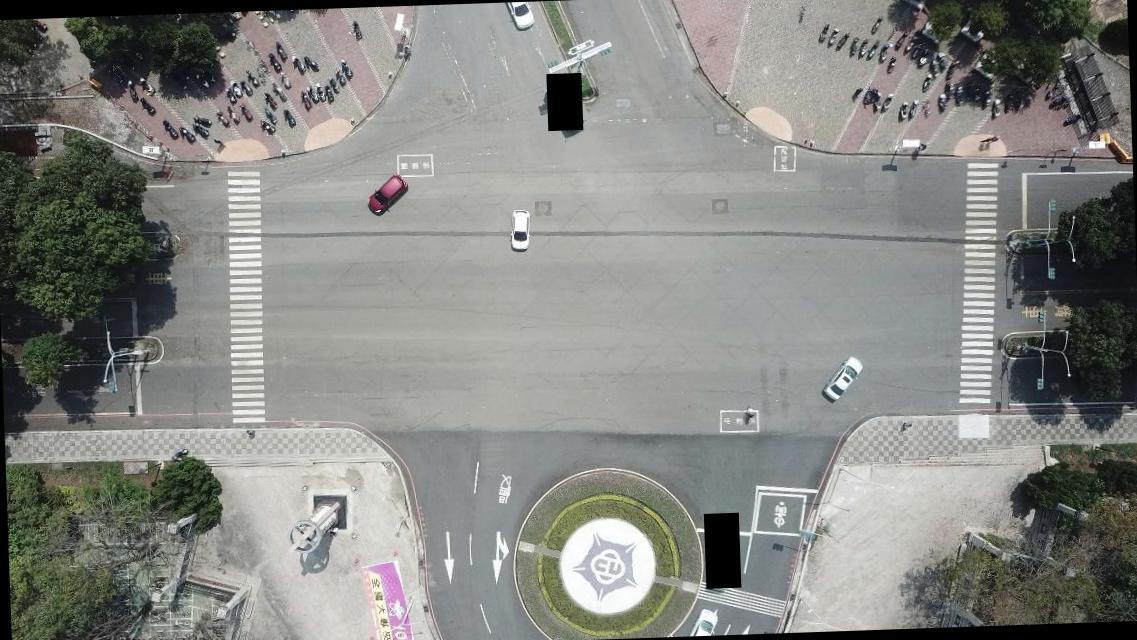vehicle: (822, 357, 862, 401), (366, 176, 407, 213), (509, 209, 532, 250), (686, 607, 718, 635), (506, 1, 535, 30)
